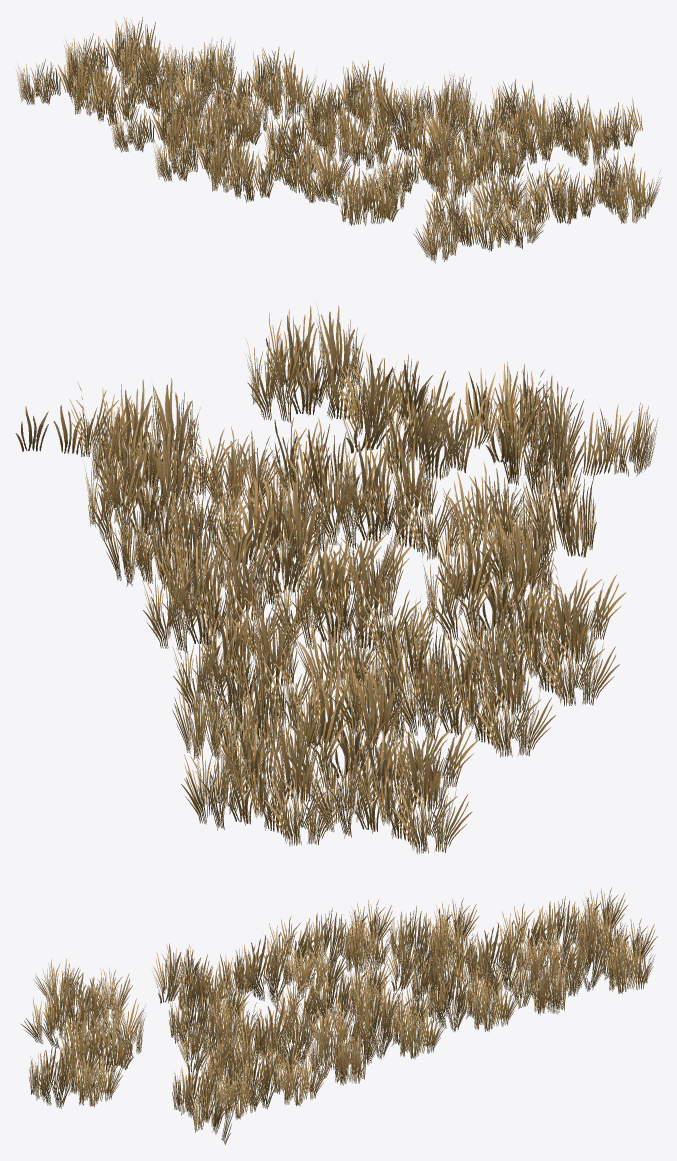
The model's file is Area_13_15.fbx.
3 renders of one model, top to bottom at view 1: azimuth 30°, elevation 25°; view 2: azimuth 150°, elevation 25°; view 3: azimuth 270°, elevation 25°, orthographic. The views are drawn at different scales.
Parts seen in each view (by area): view 1: Area_13_15; view 2: Area_13_15; view 3: Area_13_15.
Part boxes in pixels (x1,y1,x2,y2): Area_13_15: [16, 17, 661, 262]; Area_13_15: [15, 305, 657, 854]; Area_13_15: [20, 887, 657, 1144].
Size of the model in its own units: 2230 by 238 by 2681.
1 material, 1 textured.
